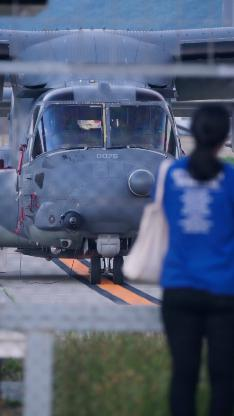Tornado: (0, 0, 234, 284)
